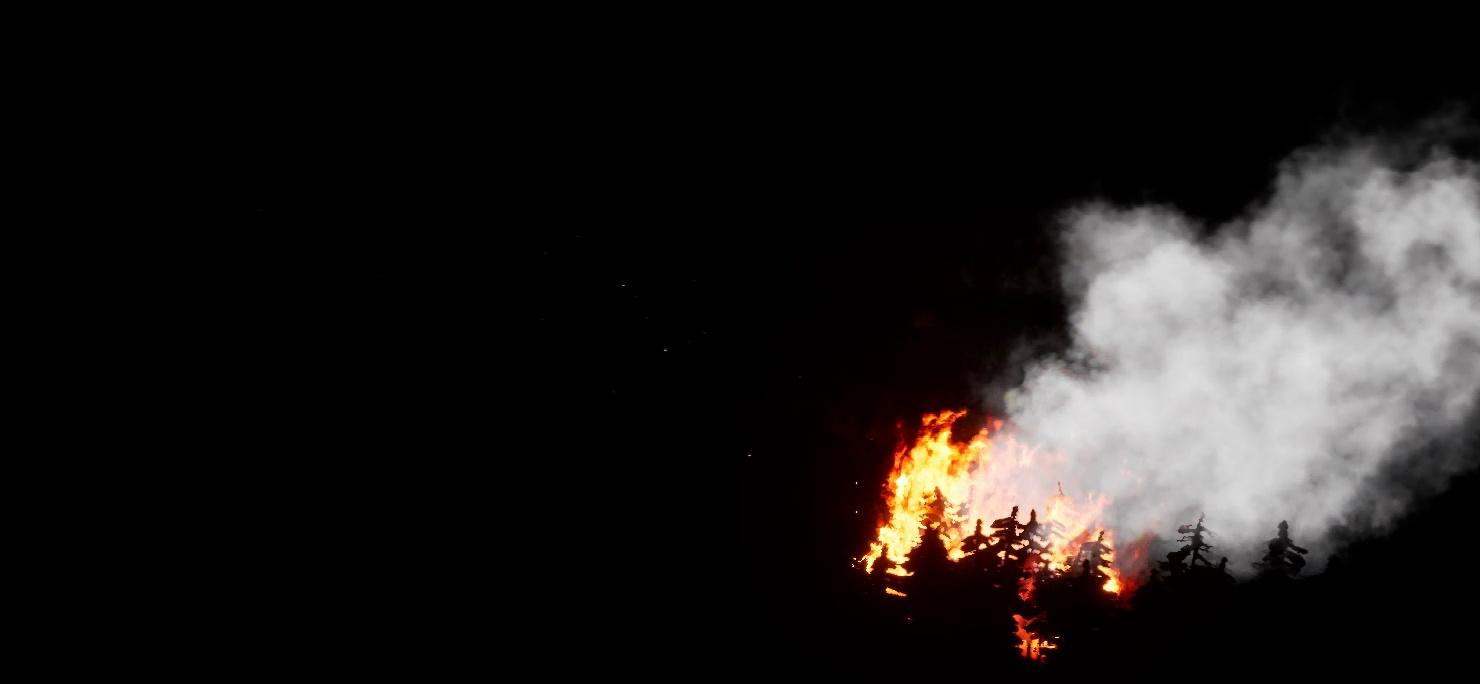fire: (847, 396, 1136, 647)
smoke: (982, 147, 1479, 575)
